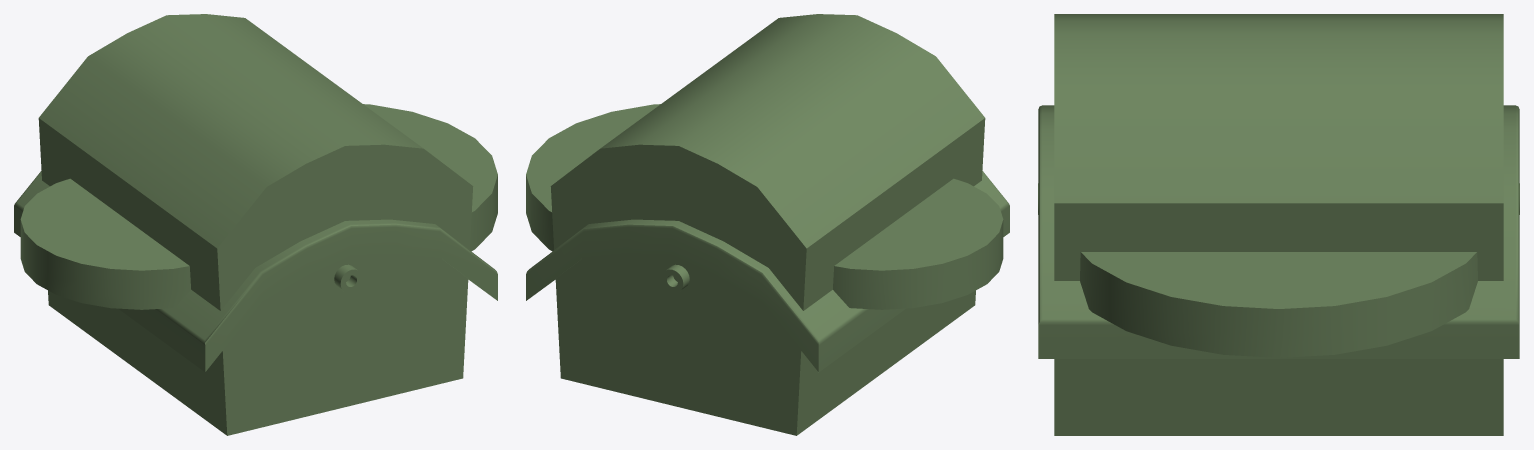
Rendered from 3 for unity.fbx.
3 renders of one model, left to right at view 1: azimuth 30°, elevation 25°; view 2: azimuth 150°, elevation 25°; view 3: azimuth 270°, elevation 25°, orthographic. The views are drawn at different scales.
Visible parts, largest first — view 1: House_base, sm_house_base, House_Inner_roof, House_pipe; view 2: House_base, sm_house_base, House_Inner_roof, House_pipe; view 3: House_base, sm_house_base, House_Inner_roof.
Part boxes in pixels (bbox=[...]): House_base: bbox=[38, 14, 473, 435]; sm_house_base: bbox=[20, 104, 497, 309]; House_Inner_roof: bbox=[14, 171, 497, 372]; House_pipe: bbox=[334, 264, 362, 292]; House_base: bbox=[550, 14, 985, 435]; sm_house_base: bbox=[526, 104, 1003, 309]; House_Inner_roof: bbox=[526, 171, 1009, 372]; House_pipe: bbox=[661, 264, 689, 292]; House_base: bbox=[1054, 14, 1503, 435]; sm_house_base: bbox=[1080, 252, 1477, 357]; House_Inner_roof: bbox=[1038, 105, 1519, 358].
Bounding box in the file's own units: 956 × 545 × 723.
